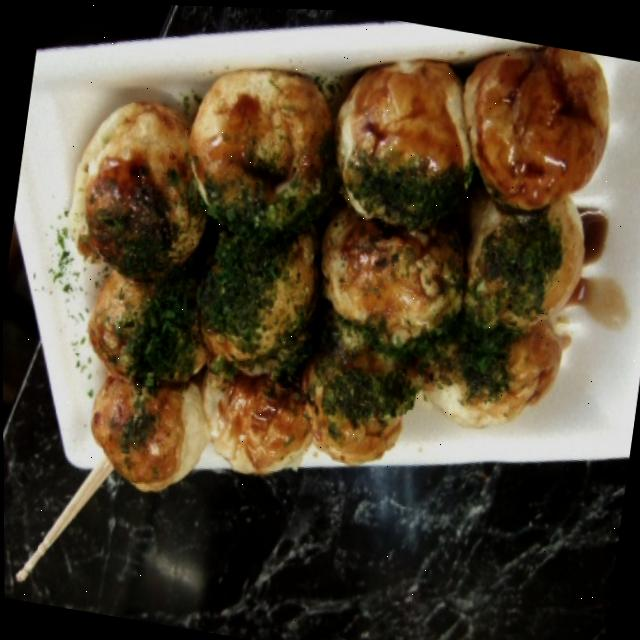炸货点心: (39, 1, 622, 563)
